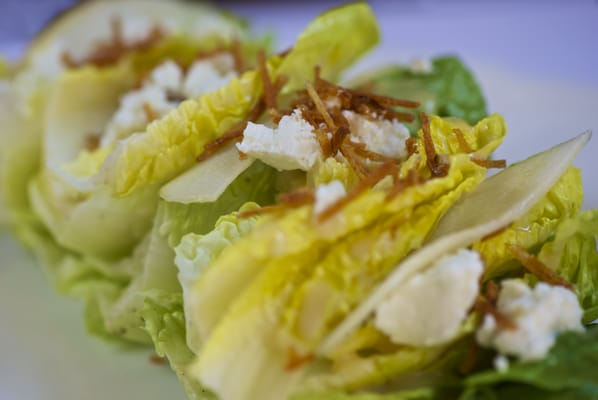soup: (11, 4, 588, 394)
